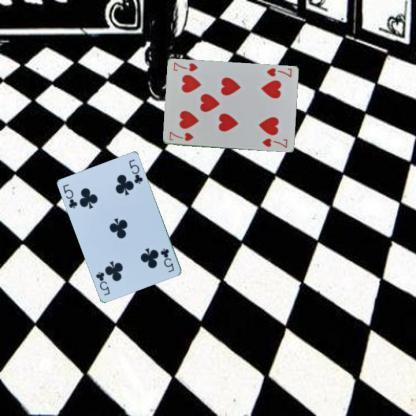5c: (61, 182, 80, 210), (158, 246, 176, 273)
7h: (263, 65, 292, 79), (166, 130, 194, 142)
